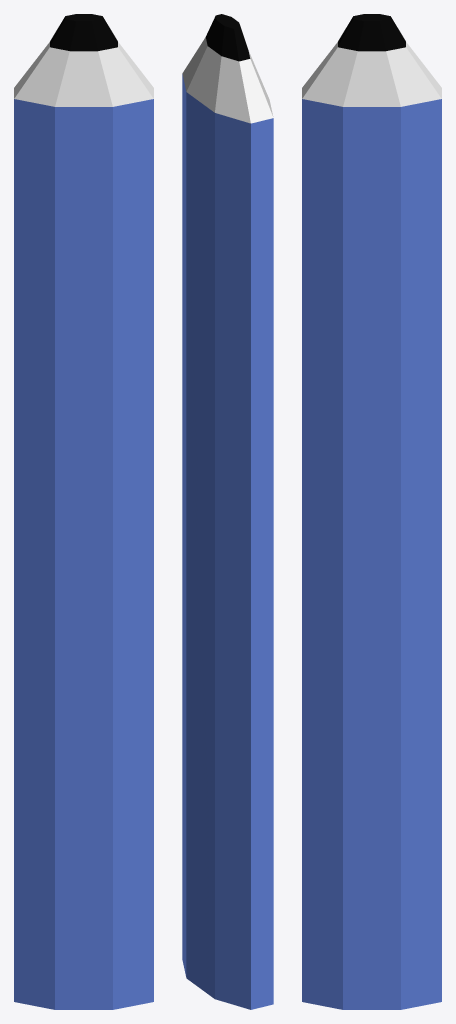
Rendered from pencil04.obj.
3 renders of one model, left to right at view 1: azimuth 90°, elevation 25°; view 2: azimuth 210°, elevation 25°; view 3: azimuth 270°, elevation 25°, orthographic.
Parts seen in each view (by area): view 1: Cylinder_Cylinder.003; view 2: Cylinder_Cylinder.003; view 3: Cylinder_Cylinder.003.
Boxes of the visible parts, <box> form: Cylinder_Cylinder.003: <box>14,14,153,1009</box>; Cylinder_Cylinder.003: <box>182,14,273,1009</box>; Cylinder_Cylinder.003: <box>302,14,441,1009</box>.
Size of the model in its own units: 0.00656 by 0.11 by 0.0142.
Materials: 1 (1 with a texture image).
